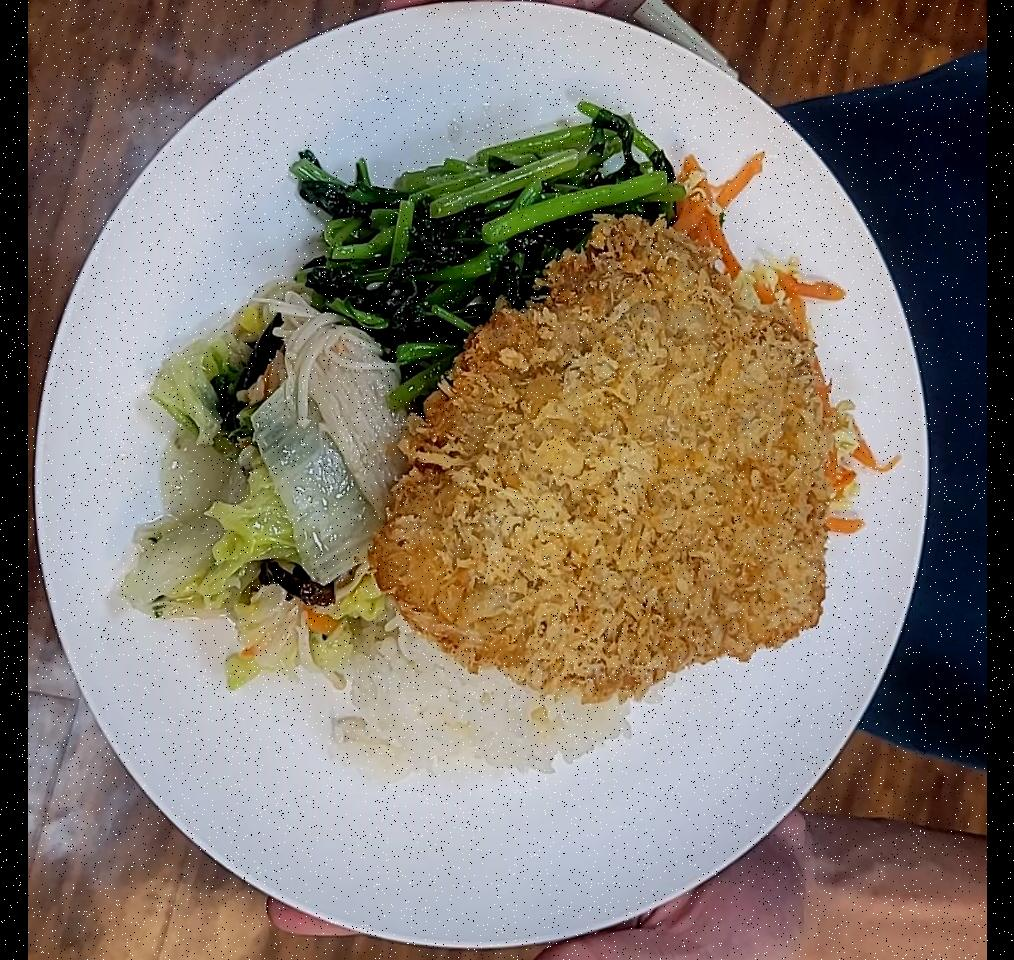fried pork chops: (373, 214, 854, 700)
plate: (27, 5, 945, 960)
side dish: (147, 298, 428, 686), (322, 115, 664, 386), (668, 155, 888, 534)
white rice: (344, 544, 658, 784)
